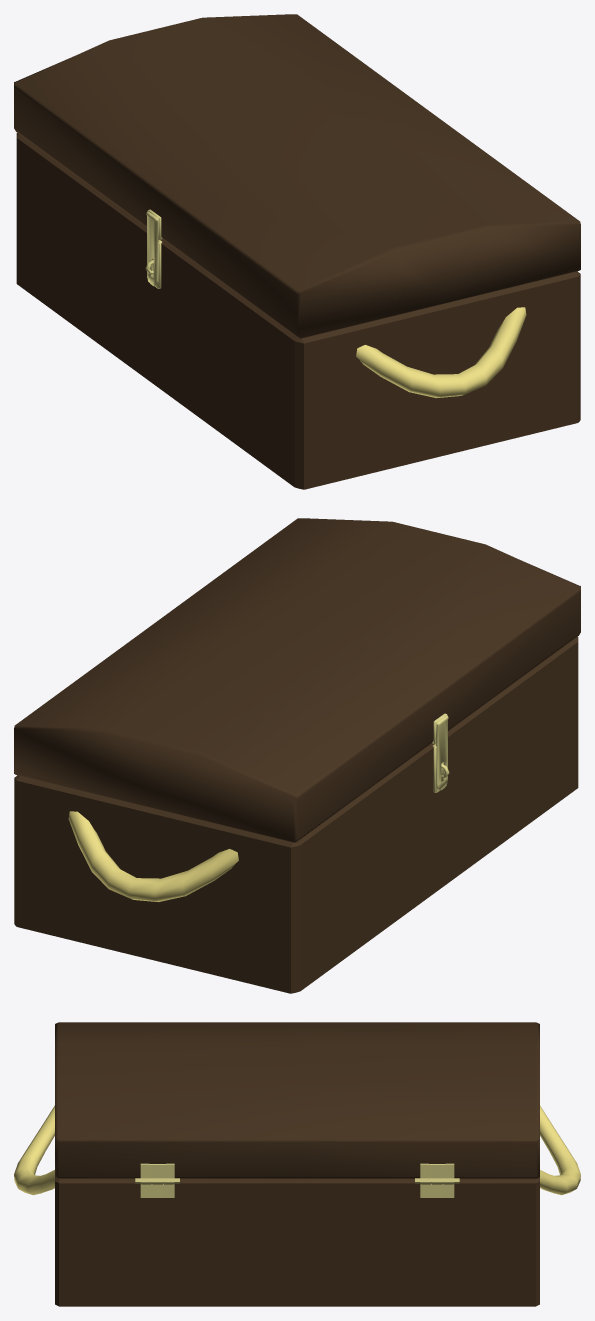
File: chest for the goat.glb
3 views of the same model, one above another, from view 1: azimuth 30°, elevation 25°; view 2: azimuth 150°, elevation 25°; view 3: azimuth 270°, elevation 25° (orthographic). The views are drawn at different scales.
Visible parts, largest first — view 1: Cube.001, Cube, Cube.002; view 2: Cube.001, Cube, Cube.002; view 3: Cube.001, Cube, Cube.002.
Boxes of the visible parts, left/top/right/bottom form: Cube.001: left=14, top=14, right=580, bottom=338; Cube: left=16, top=133, right=580, bottom=489; Cube.002: left=145, top=209, right=162, bottom=288; Cube.001: left=14, top=518, right=580, bottom=842; Cube: left=14, top=637, right=578, bottom=993; Cube.002: left=432, top=713, right=449, bottom=792; Cube.001: left=55, top=1022, right=539, bottom=1179; Cube: left=14, top=1105, right=580, bottom=1306; Cube.002: left=135, top=1163, right=459, bottom=1197.
Bounding box in the file's own units: 2.13 × 1.51 × 4.17.
